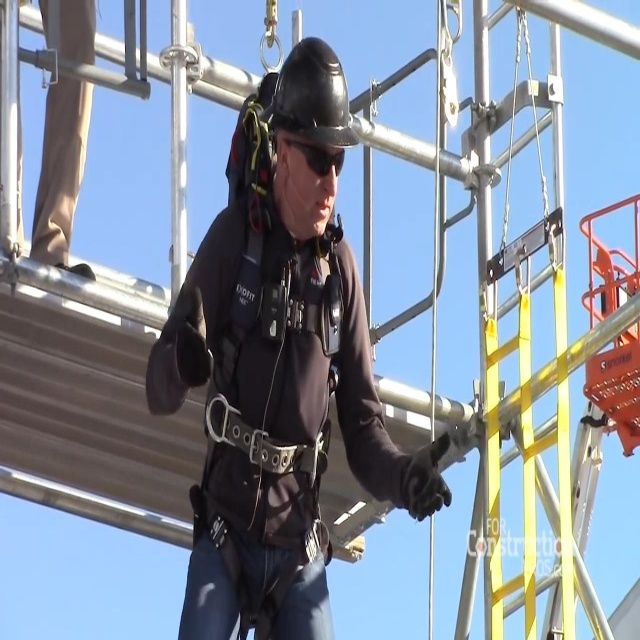Arnes_seguridad: (174, 60, 353, 638)
